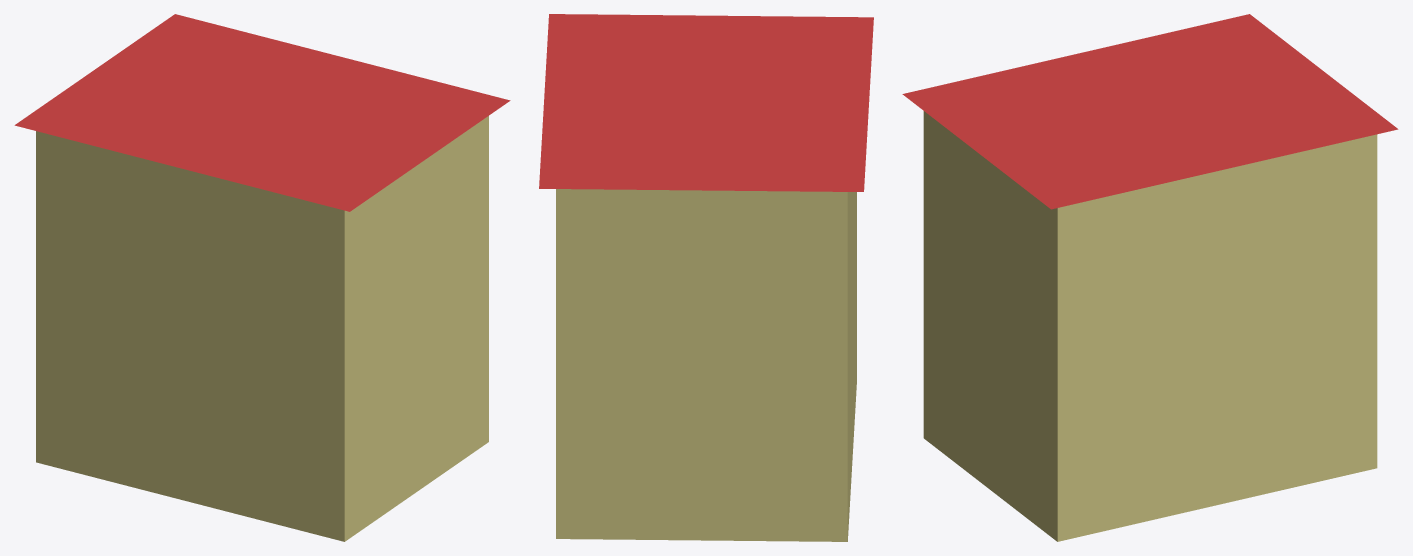
3 views of the same model, side by side, from view 1: azimuth 30°, elevation 25°; view 2: azimuth 150°, elevation 25°; view 3: azimuth 270°, elevation 25° (orthographic). The views are drawn at different scales.
Bounding box in the file's own units: 7.32 × 7.85 × 5.96.
